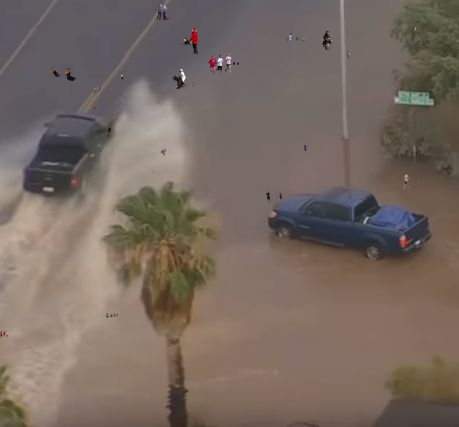Human: (140, 3, 170, 20), (208, 53, 232, 74), (171, 69, 196, 89), (181, 28, 199, 55), (49, 67, 76, 81), (286, 33, 305, 45), (403, 173, 417, 189), (322, 30, 333, 50), (266, 191, 282, 202), (105, 124, 117, 138), (105, 313, 118, 318), (0, 331, 8, 338), (94, 87, 101, 94), (304, 144, 309, 151), (161, 149, 166, 156), (120, 73, 124, 80), (347, 51, 350, 60), (412, 26, 417, 31), (233, 62, 239, 65), (362, 346, 364, 348), (94, 107, 95, 110), (153, 170, 154, 173), (211, 220, 212, 222)
